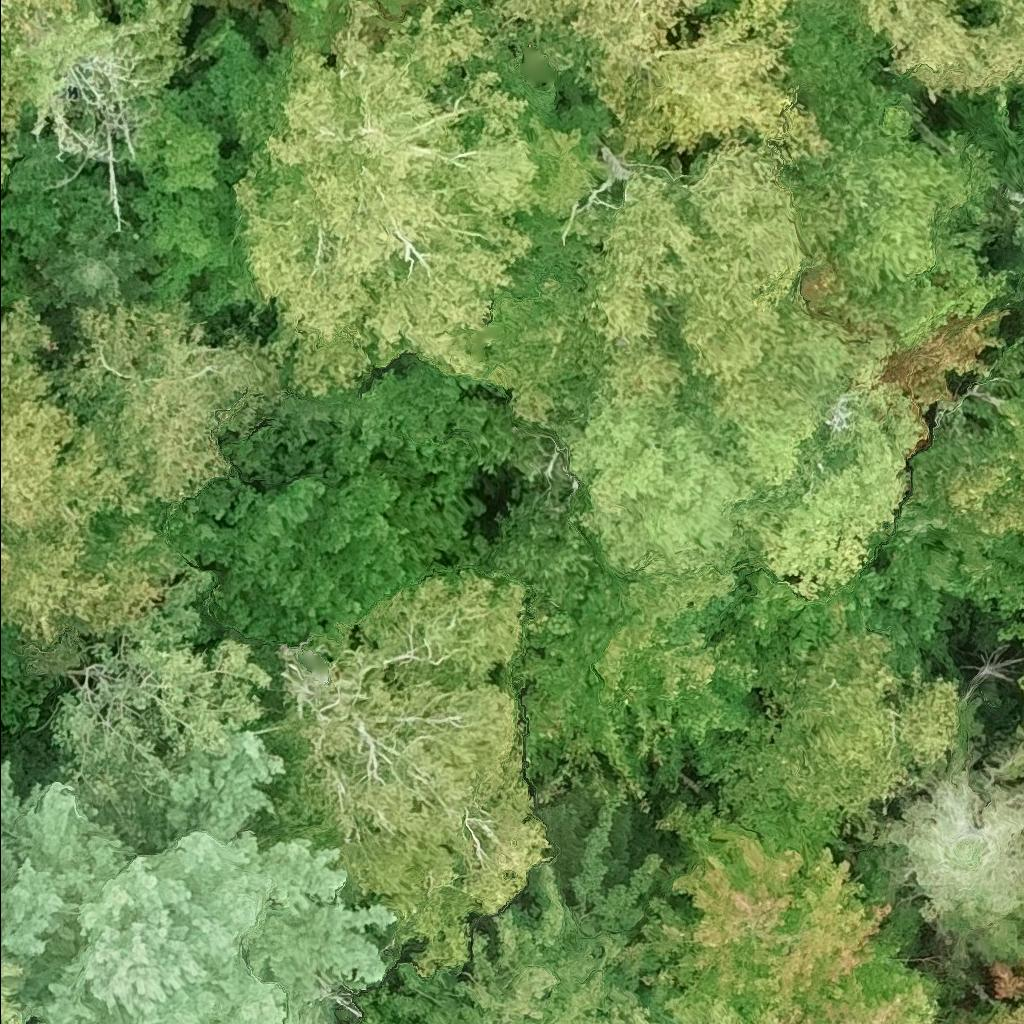crown: (0, 717, 401, 1023), (254, 567, 552, 978), (228, 0, 543, 382), (549, 306, 927, 602), (0, 291, 194, 650), (568, 135, 827, 401), (44, 560, 275, 848), (476, 0, 839, 179), (702, 611, 964, 848), (516, 567, 760, 812), (193, 444, 485, 648), (641, 790, 895, 1023), (784, 104, 1017, 347), (55, 297, 289, 507), (490, 795, 672, 1023), (854, 734, 1023, 964), (862, 457, 1023, 644), (0, 0, 198, 148), (331, 363, 524, 481), (484, 256, 599, 429), (799, 0, 1023, 85), (722, 575, 926, 668), (909, 379, 1023, 541), (373, 929, 558, 1023), (128, 184, 253, 321), (189, 16, 294, 160), (768, 940, 940, 1023), (119, 88, 254, 191), (31, 228, 162, 315), (527, 98, 610, 220), (970, 956, 1023, 1023), (279, 0, 341, 51), (0, 0, 81, 30), (354, 985, 407, 1023), (0, 964, 34, 1023), (585, 1001, 662, 1023), (196, 0, 267, 20), (702, 995, 750, 1023), (0, 115, 12, 197), (374, 0, 420, 20), (1013, 207, 1023, 240), (1012, 671, 1023, 698), (1018, 633, 1023, 644)
